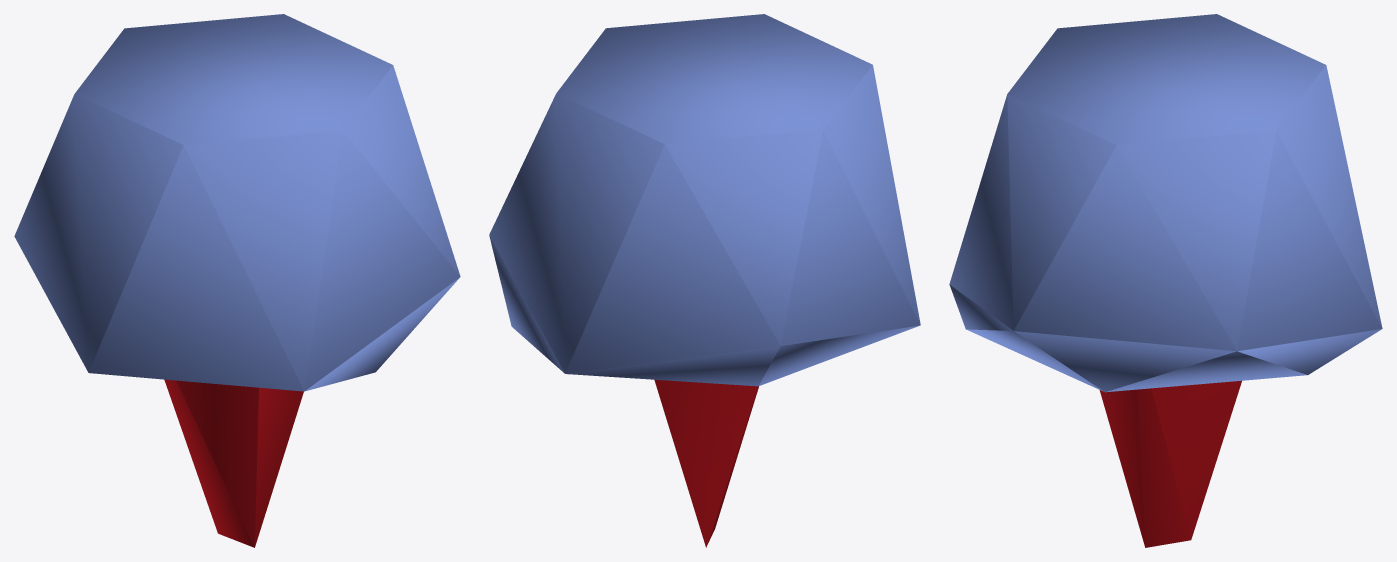
The model's file is PataD.obj.
The picture shows the model from 3 angles, left to right: view 1: azimuth 30°, elevation 25°; view 2: azimuth 150°, elevation 25°; view 3: azimuth 270°, elevation 25°; orthographic projection.
Parts seen in each view (by area): view 1: PataD; view 2: PataD; view 3: PataD.
Part boxes in pixels (x1=…): PataD: x1=14, y1=14, x2=460, y2=547; PataD: x1=489, y1=14, x2=920, y2=547; PataD: x1=949, y1=14, x2=1382, y2=547.
Bounding box in the file's own units: 5.29 × 6.36 × 5.38.
2 materials, 2 textured.
